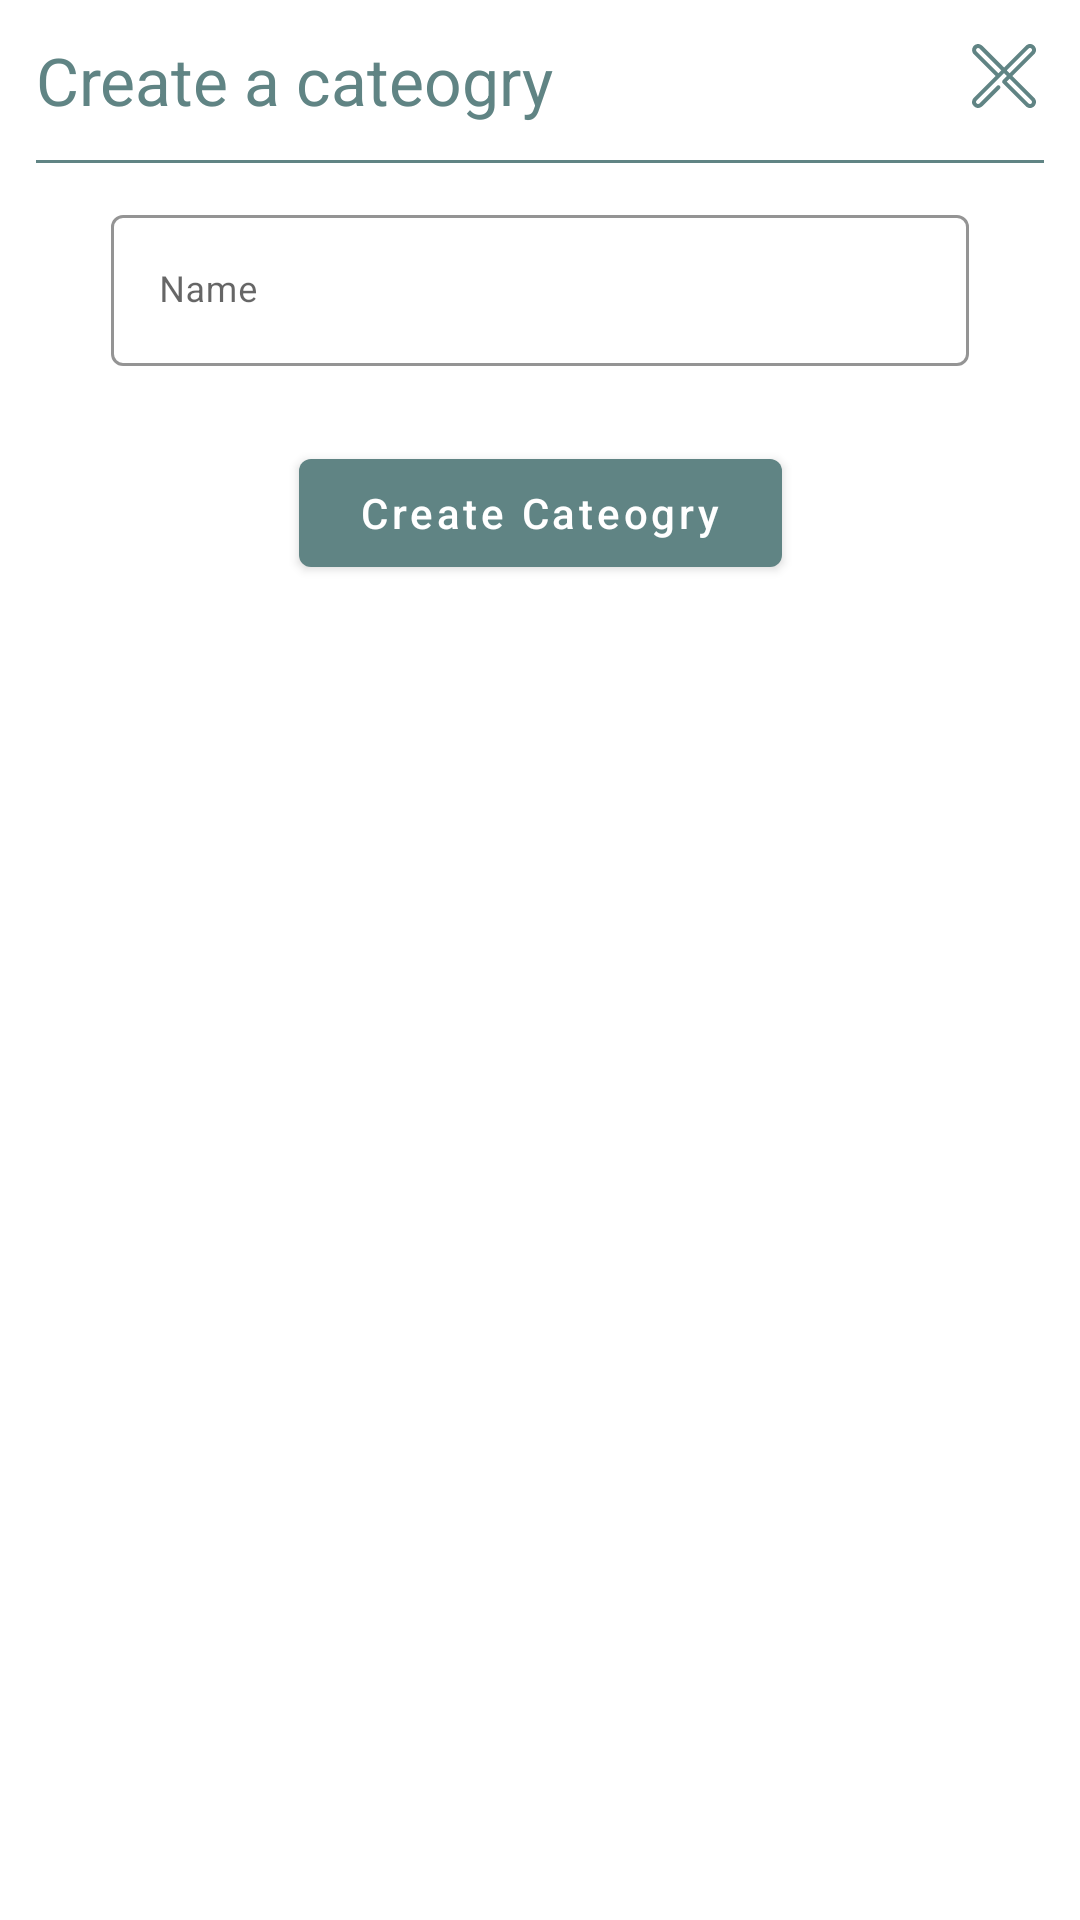

Icon click points for this 1080w x 1920h phone screenshot, format point (x, y):
close: point (1004, 76)
